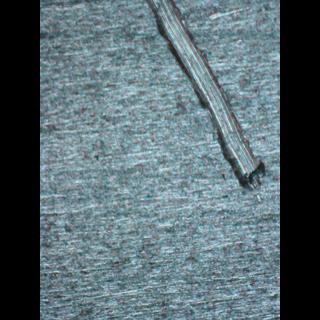d: (143, 0, 266, 191)
